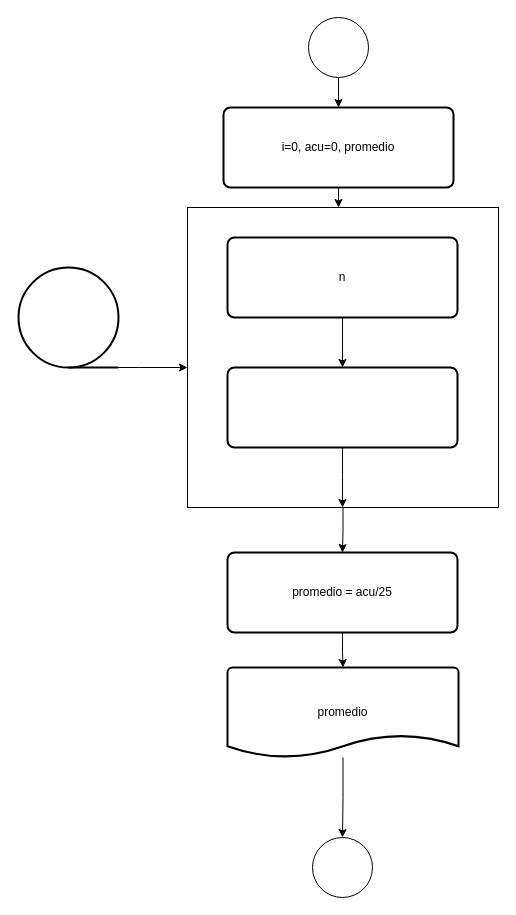
The diagram is 516 pixels wide and 915 high, and some of its shapes have lost their labels. Each missing label, with the box of its shape:
acu+=n: (226, 366, 458, 448)
i<25: (17, 266, 119, 368)
